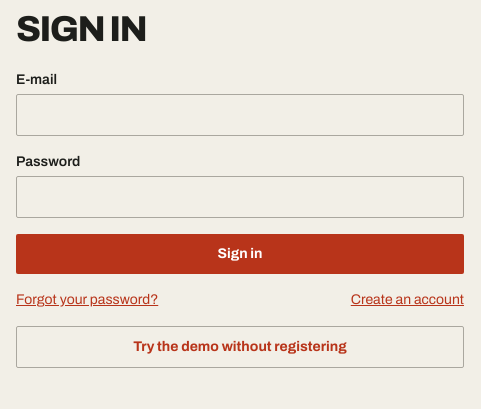
Test case: login › shows the API error for wrong credentials
In the field labelled "E-mail": (240, 115) [16,94,464,136], type "max@example.com"
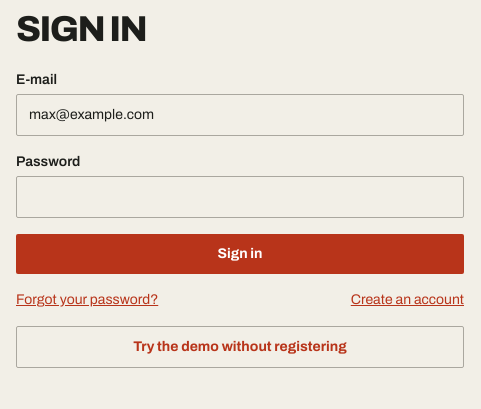
In the password field labelled "Password": (240, 197) [16,176,464,218], type "hunter2hunter2"
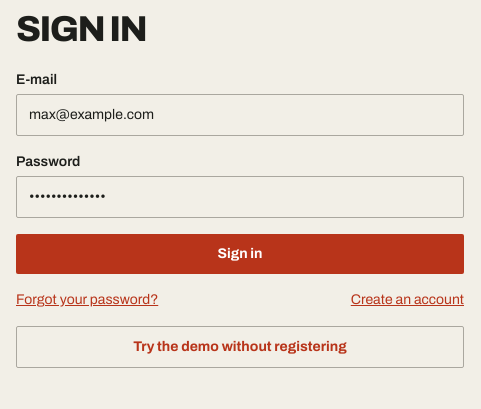
Click the button "Sign in": click(240, 254) [16,234,464,274]
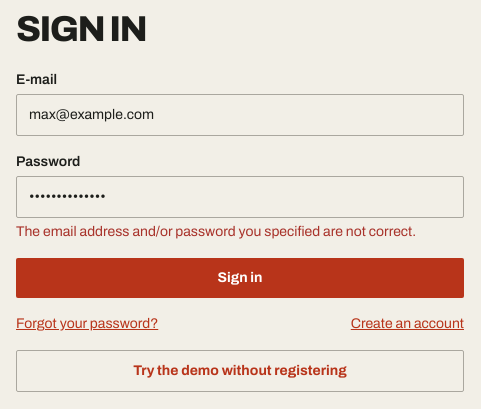
Expected: the text "The email address and/or password you specified are not correct." is shown, [16,222,464,242]
